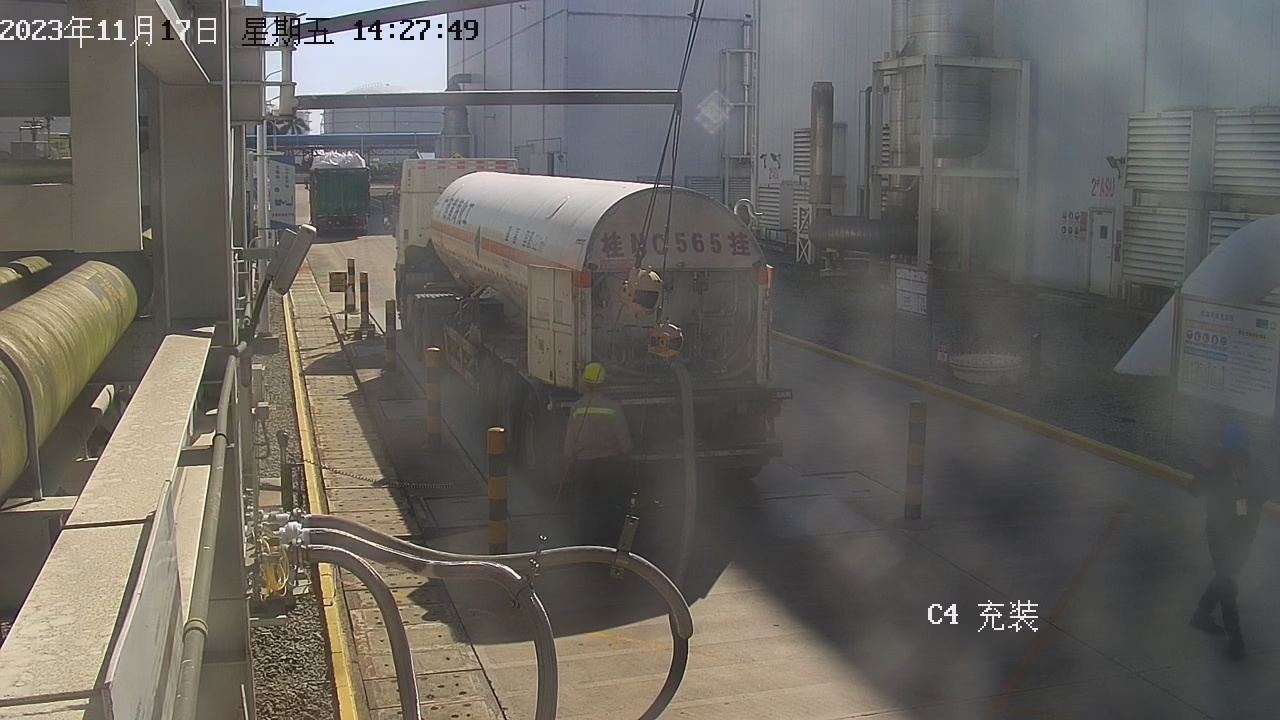Head_with_Helmet: (1200, 415, 1254, 466), (576, 358, 611, 390)
Uniform: (1182, 452, 1279, 656), (565, 384, 632, 539)
